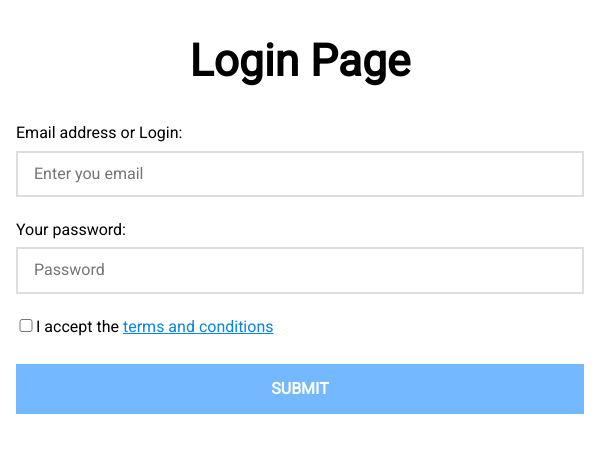
it: Login Page › Submit Form › should have show submit success alert with success
The width and height of the screenshot is (601, 456).
Type "email@test.com" into the field with test id "email-or-login". click: [300, 174]
box: [16,151,584,197]
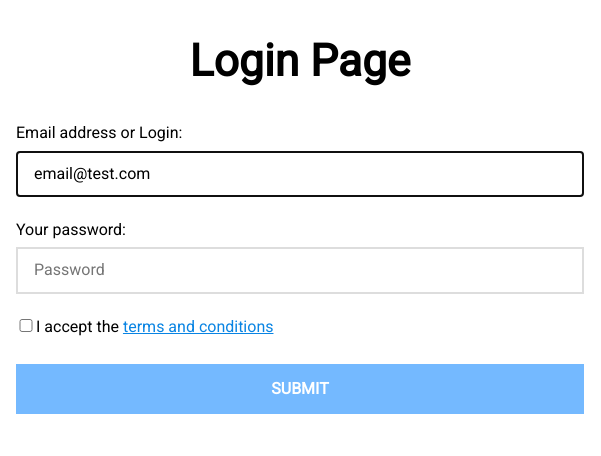
Type "123456abc@" into the password field with test id "password". click: [300, 270]
box: [16,247,584,293]
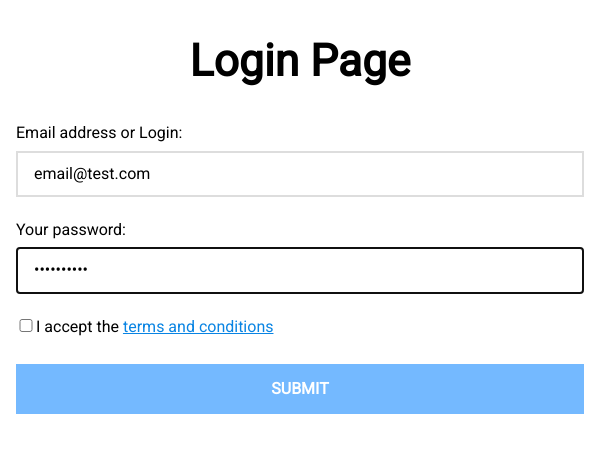
Click the checkbox with test id "terms-and-conditions". click: [26, 326]
box: [16,319,36,332]
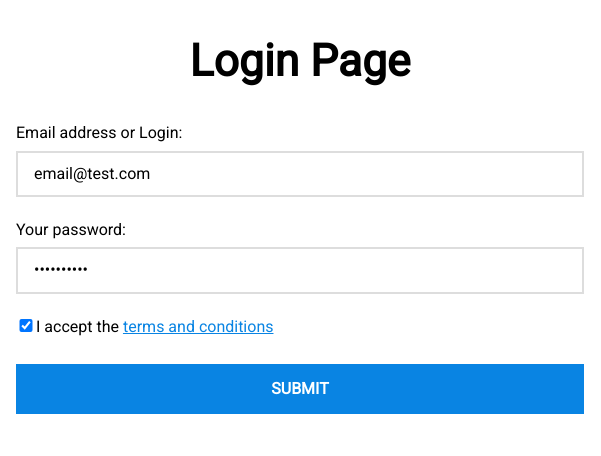
Click the submit button. click: [300, 389]
box: [16,364,584,414]
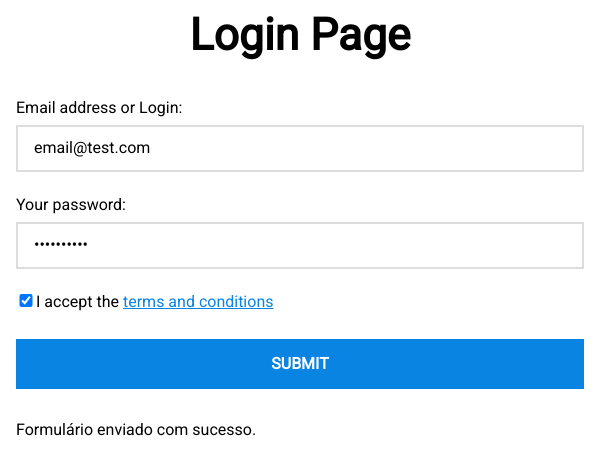
expect the text "Formulário enviado com sucesso." is shown: met, box [16,421,256,439]
